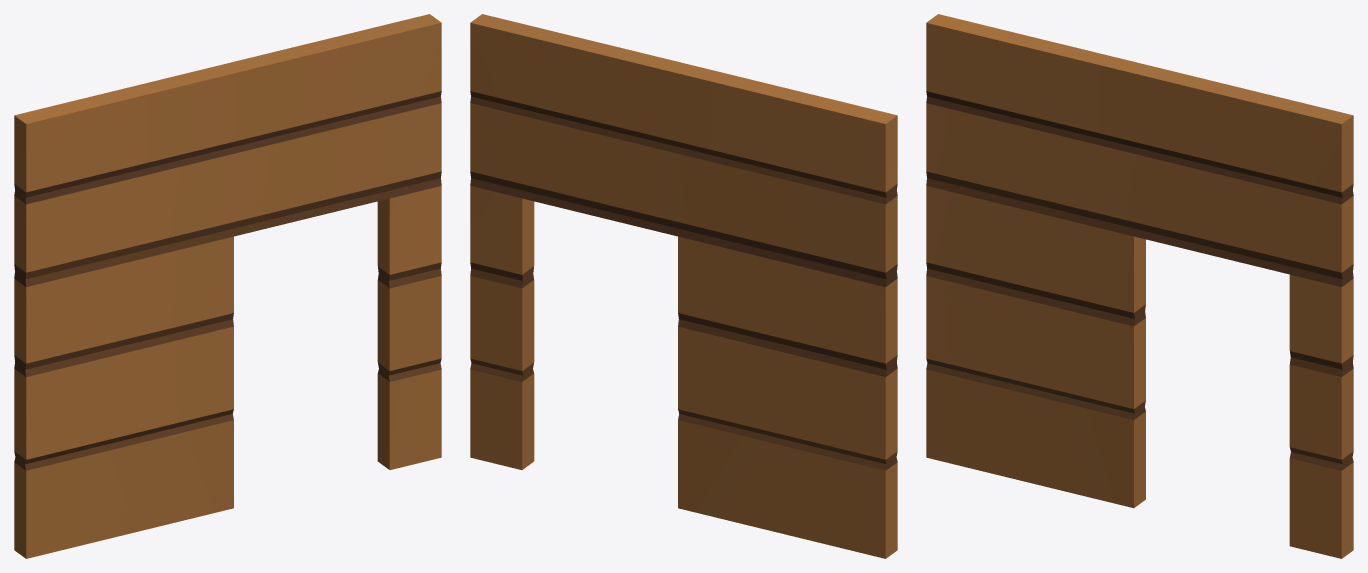
Rendered from Wall_Wood_Doorway_01.fbx.
3 views of the same model, side by side, from view 1: azimuth 30°, elevation 25°; view 2: azimuth 150°, elevation 25°; view 3: azimuth 330°, elevation 25° (orthographic).
Visible parts, largest first — view 1: Wall_Wood_Doorway_01; view 2: Wall_Wood_Doorway_01; view 3: Wall_Wood_Doorway_01.
Boxes of the visible parts, left/top/right/bottom form: Wall_Wood_Doorway_01: left=14, top=14, right=441, bottom=558; Wall_Wood_Doorway_01: left=470, top=14, right=897, bottom=558; Wall_Wood_Doorway_01: left=926, top=14, right=1353, bottom=558.
Size of the model in its own units: 4 by 4 by 0.2.
